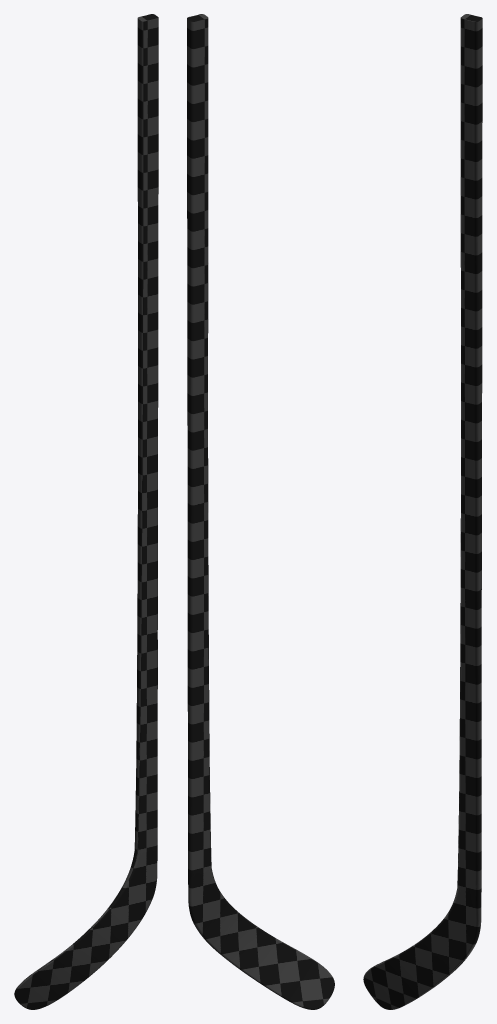
Rendered from P88-SBT.glb.
The picture shows the model from 3 angles, left to right: view 1: azimuth 30°, elevation 25°; view 2: azimuth 210°, elevation 25°; view 3: azimuth 330°, elevation 25°; orthographic projection. The views are drawn at different scales.
Visible parts, largest first — view 1: geometry_0; view 2: geometry_0; view 3: geometry_0.
Boxes of the visible parts, bbox=[...] form: geometry_0: bbox=[14, 14, 158, 1009]; geometry_0: bbox=[187, 14, 334, 1009]; geometry_0: bbox=[363, 14, 482, 1009].
Bounding box in the file's own units: 223 × 1650 × 62.74.
Materials: 1 (1 with a texture image).
